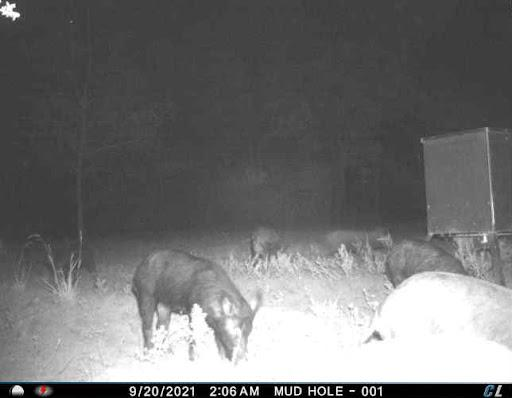Hog: (362, 267, 512, 381), (133, 248, 266, 370), (378, 236, 463, 287), (323, 221, 390, 266), (248, 221, 288, 262)
